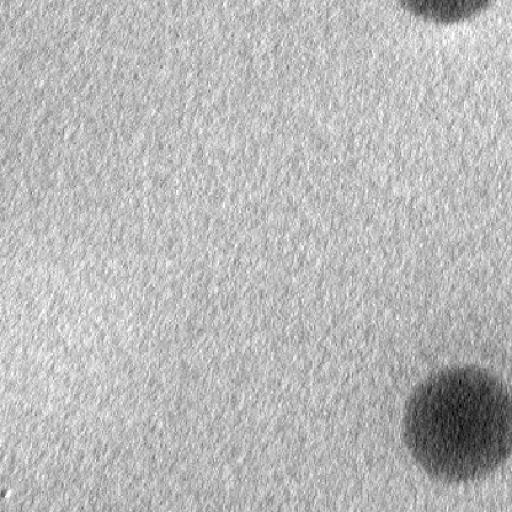Nanoparticles: (400, 363, 510, 481), (403, 0, 497, 22)
